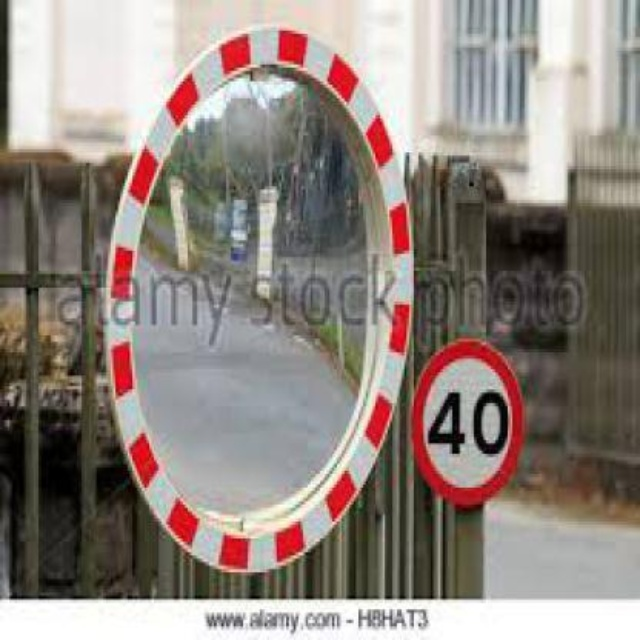Tốc độ tối đa cho phép 10km/h: (421, 346, 515, 500)
